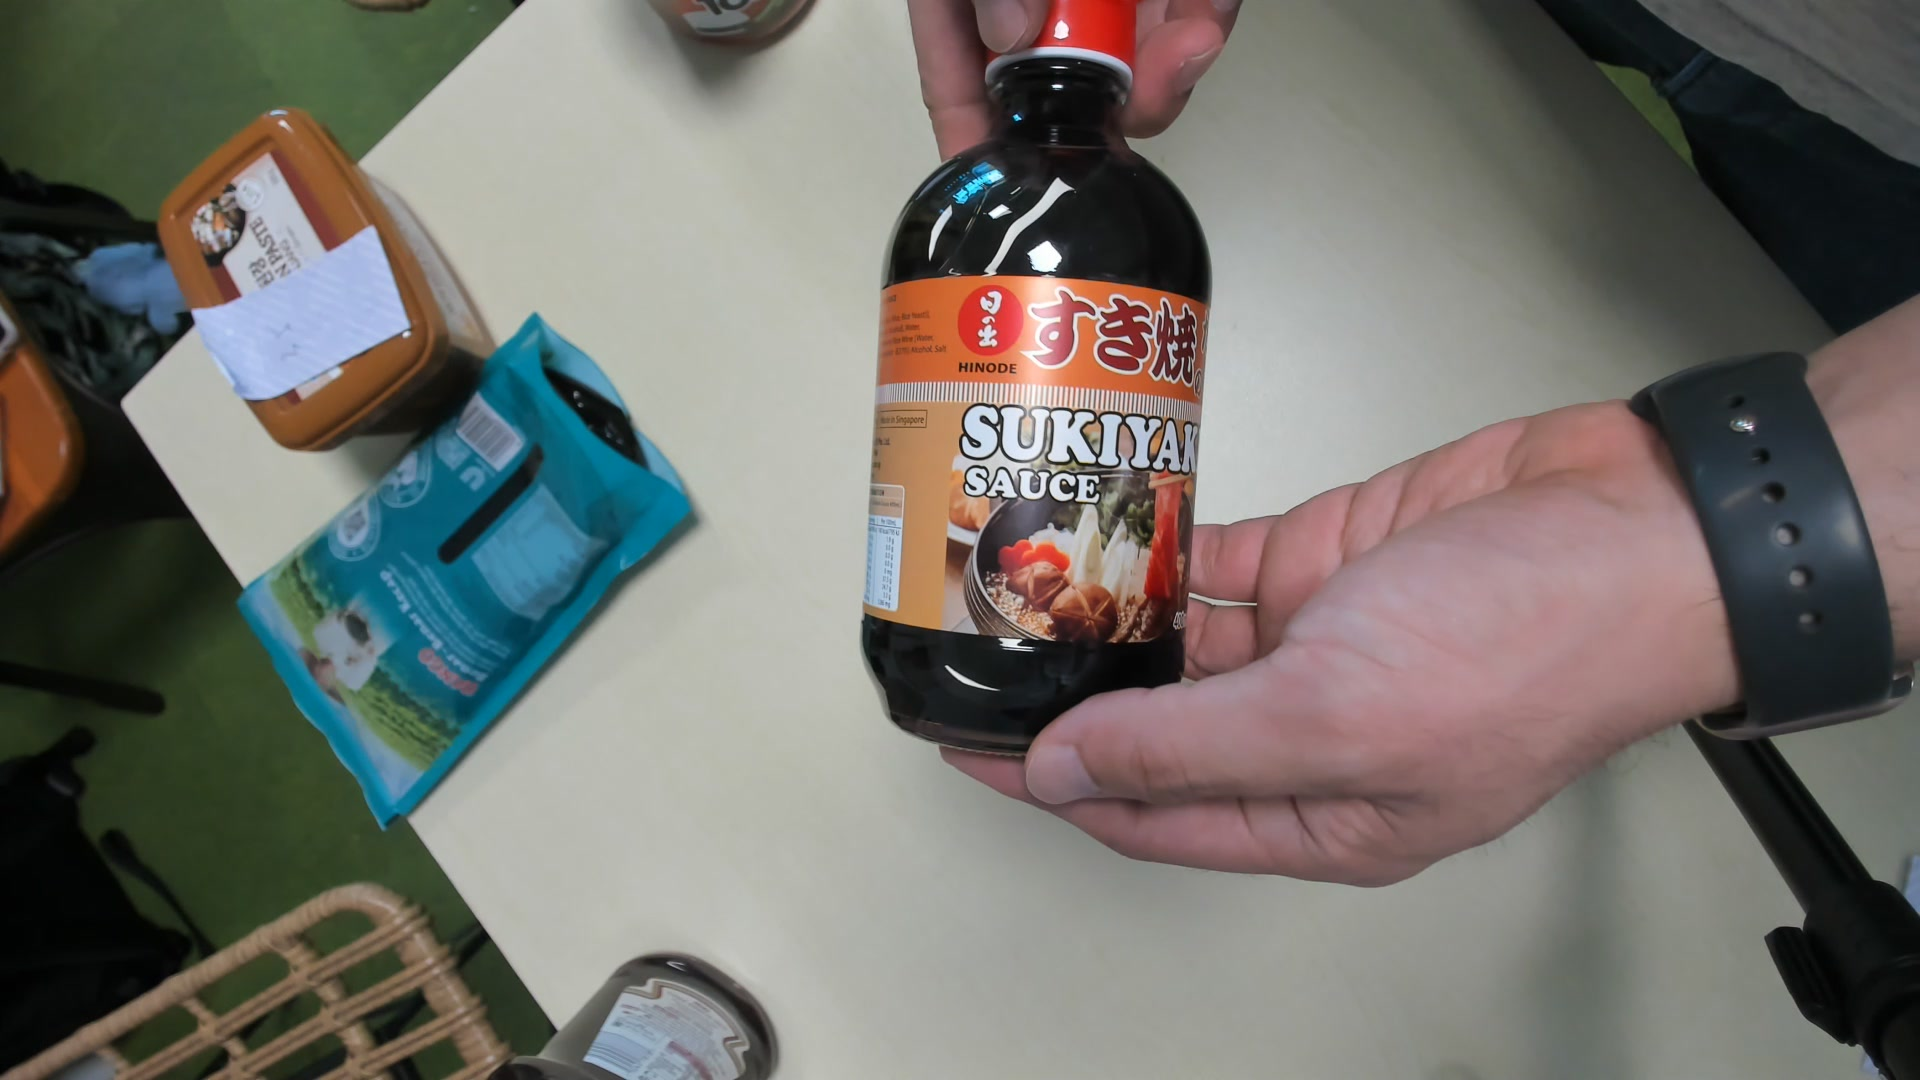OtherSauceDressing_400-499g_NonHalal_NonHealthy: (858, 9, 1222, 764)
